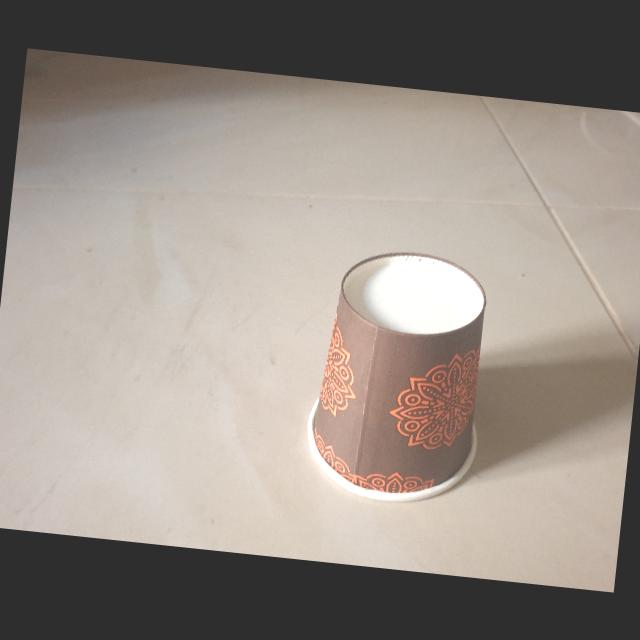trash: (291, 238, 508, 515)
